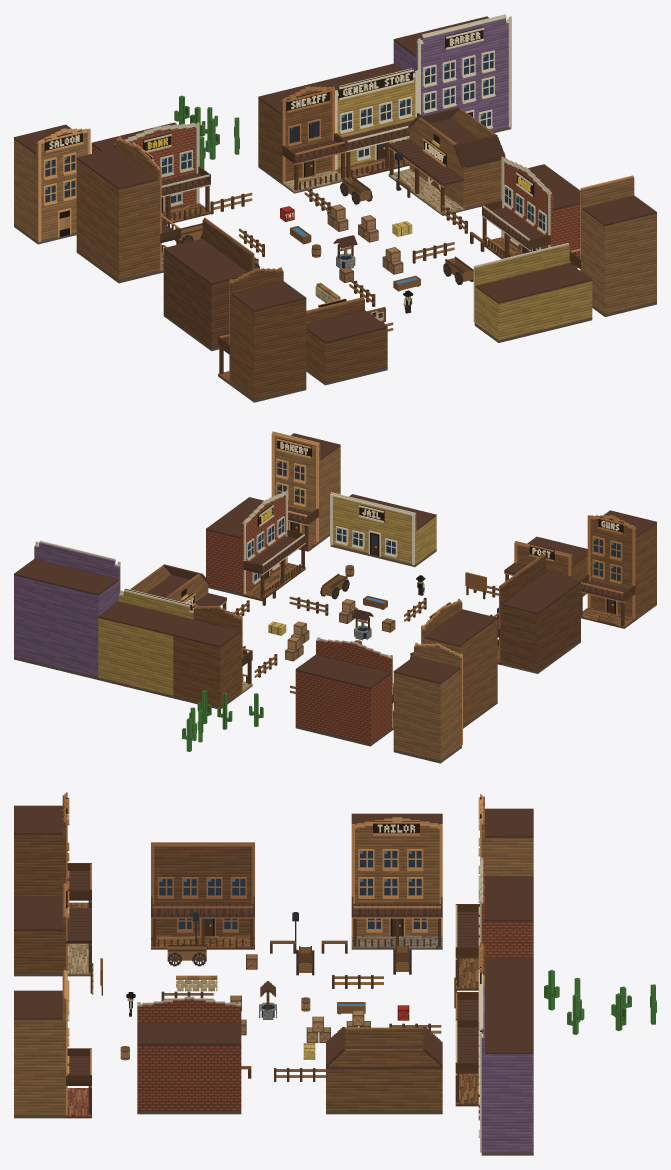
File: plaza_seed7.glb
The picture shows the model from 3 angles, top to bottom: view 1: azimuth 30°, elevation 25°; view 2: azimuth 150°, elevation 25°; view 3: azimuth 270°, elevation 25°; orthographic projection. The views are drawn at different scales.
Parts seen in each view (by area): view 1: building_1 (×2), building_11, building_5, building_6, building_10, building_9, building_13, building_3, building_4, building_12, building_0, building_7 (+2 smaller); view 2: building_1 (×2), building_5, building_12, building_6, building_4, building_0, building_3, building_9, building_10, building_11, building_13, building_7 (+2 smaller); view 3: building_1 (×2), building_11, building_12, building_13, building_10, building_5, building_7, building_6, building_0, building_4, building_3, cover_wagon (+1 smaller).
Boxes of the visible parts, x1,y1,x2,y2 form: building_1 (×2): [91, 122, 580, 268]; building_11: [76, 136, 181, 283]; building_5: [393, 14, 511, 132]; building_6: [218, 267, 306, 402]; building_10: [569, 175, 656, 316]; building_9: [473, 243, 592, 342]; building_13: [388, 107, 505, 215]; building_3: [258, 84, 346, 193]; building_4: [311, 63, 421, 178]; building_12: [163, 217, 254, 351]; building_0: [14, 124, 90, 244]; building_7: [306, 297, 387, 385]; building_1 (×2): [206, 490, 393, 746]; building_5: [14, 540, 120, 679]; building_12: [493, 553, 580, 673]; building_6: [580, 510, 656, 628]; building_4: [98, 588, 193, 698]; building_0: [393, 642, 462, 763]; building_3: [173, 605, 252, 708]; building_9: [330, 492, 436, 566]; building_10: [271, 431, 340, 551]; building_11: [421, 598, 497, 728]; building_13: [130, 564, 226, 610]; building_7: [504, 536, 587, 596]; building_1 (×2): [137, 857, 533, 1114]; building_11: [351, 813, 442, 949]; building_12: [151, 842, 254, 949]; building_13: [326, 1027, 442, 1114]; building_10: [14, 970, 91, 1118]; building_5: [478, 983, 533, 1155]; building_7: [14, 883, 91, 976]; building_6: [14, 792, 91, 907]; building_0: [478, 794, 533, 875]; building_4: [455, 973, 533, 1106]; building_3: [455, 942, 533, 1019]; cover_wagon: [167, 944, 206, 966].
Size of what is drawn, in the model's own units: 45.5 by 10.63 by 49.49.
